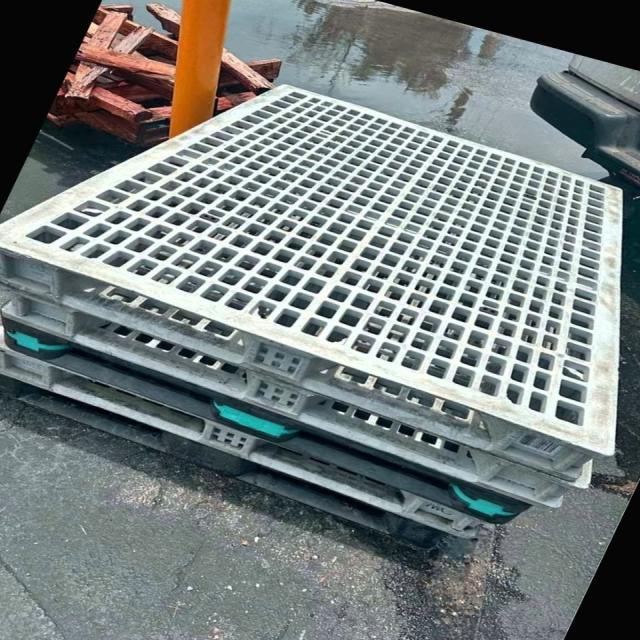non-igps: (0, 76, 637, 484), (0, 271, 576, 519), (0, 301, 541, 537), (0, 338, 505, 547), (0, 369, 461, 564)
